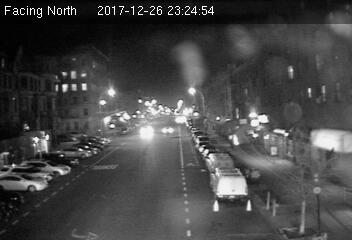car: (160, 125, 174, 134)
truck: (212, 168, 247, 200)
